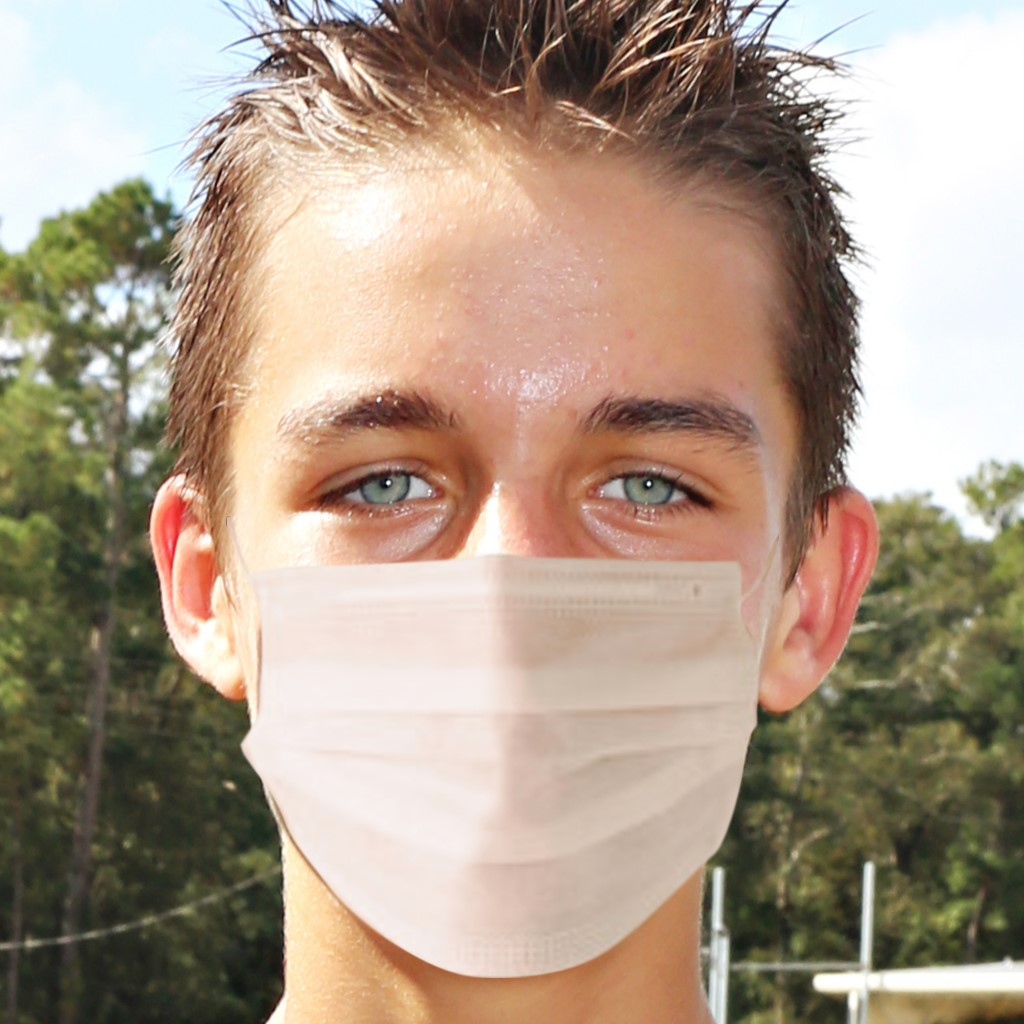con_mascara: (196, 131, 811, 977)
